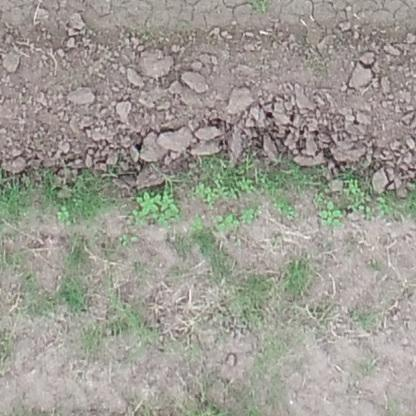vc: (318, 202, 342, 227), (57, 203, 68, 220)
